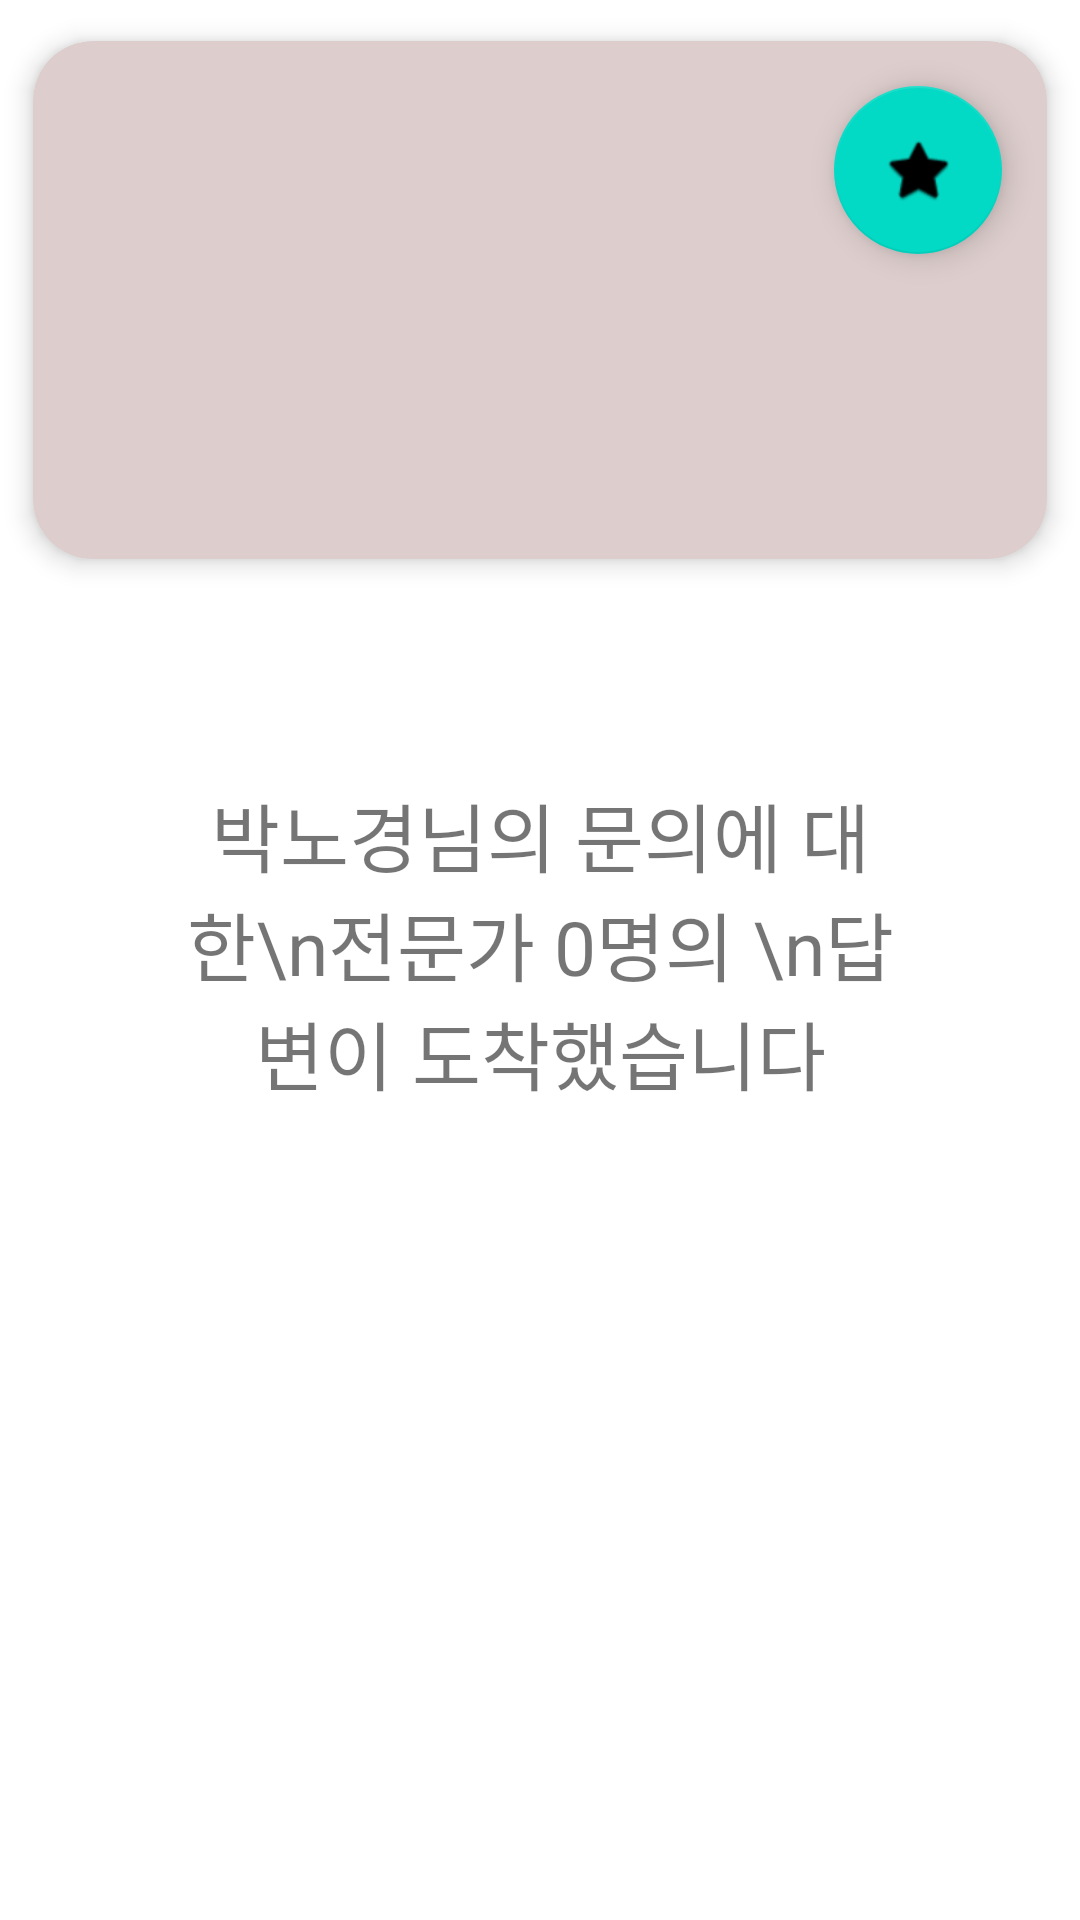

Icons on this 1080px x 1920px Android screen, each with its box as {"left": x1, "top": y1, "right": x2, "bottom": y2}:
star: {"left": 834, "top": 86, "right": 1002, "bottom": 254}
